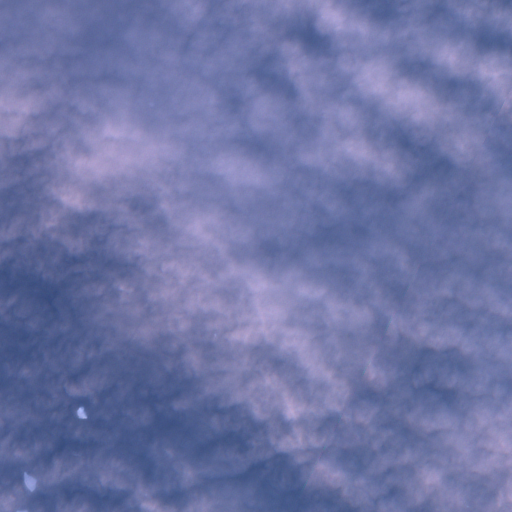Iceberg: (24, 472, 36, 491), (76, 406, 86, 418)
